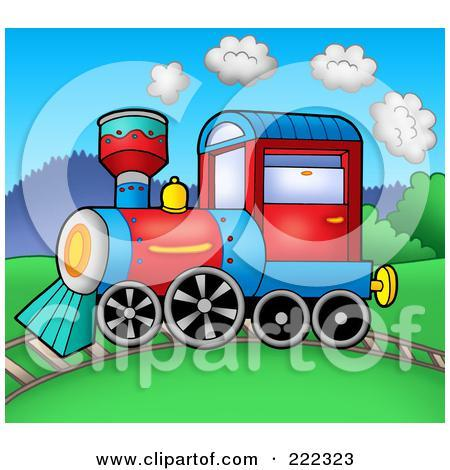train: (15, 112, 403, 365)
